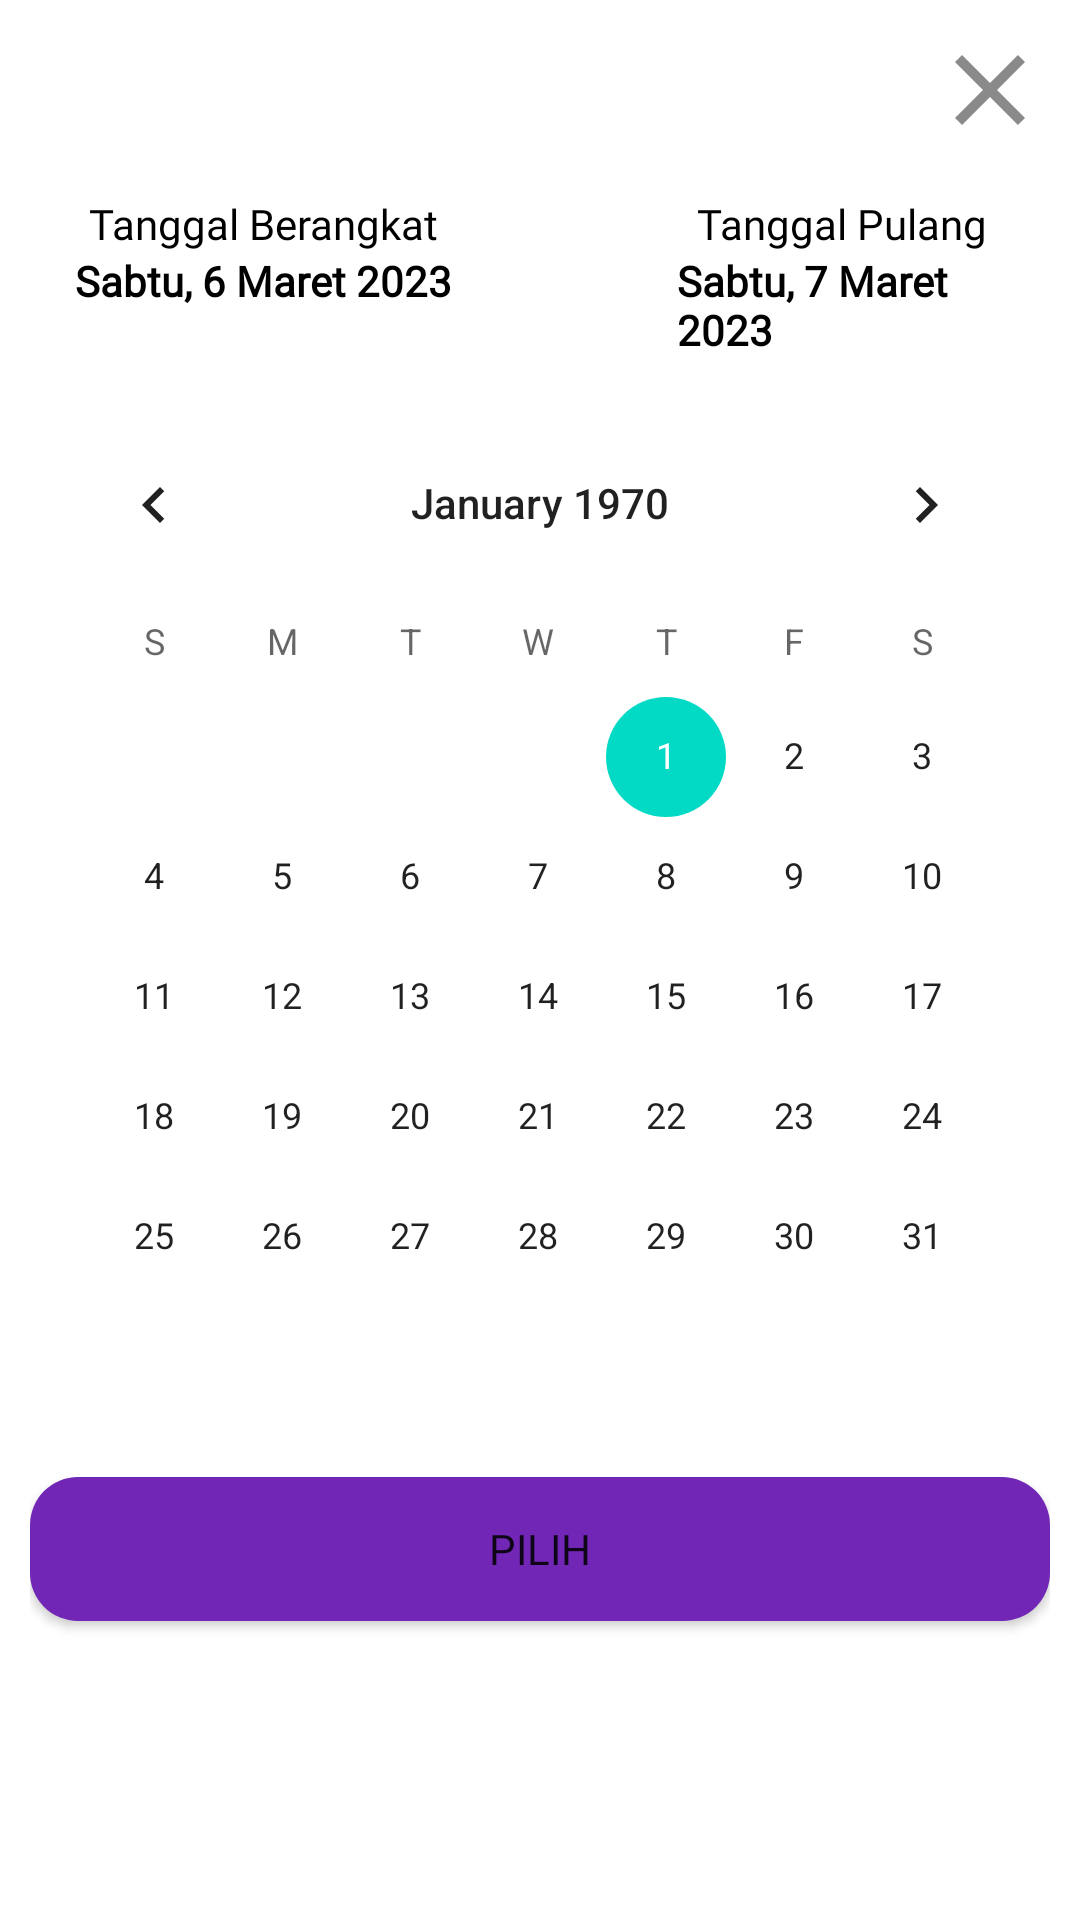

Named icons in this screenshot (1080x1920) and their bounding boxes, (x1, y1, x2, y2):
close: (955, 55, 1025, 125)
